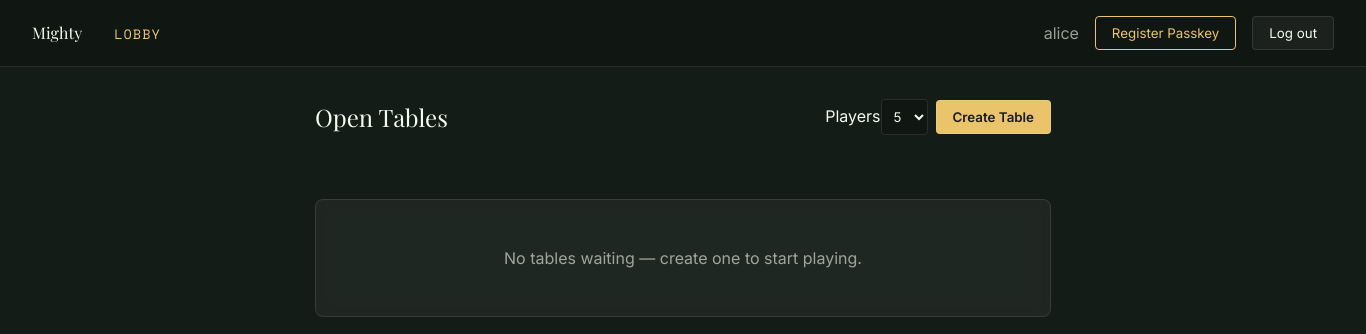
it: LobbyScreen › registers passkey when button is clicked
Click the button "Register Passkey": (1166, 33) [1095,16,1236,50]
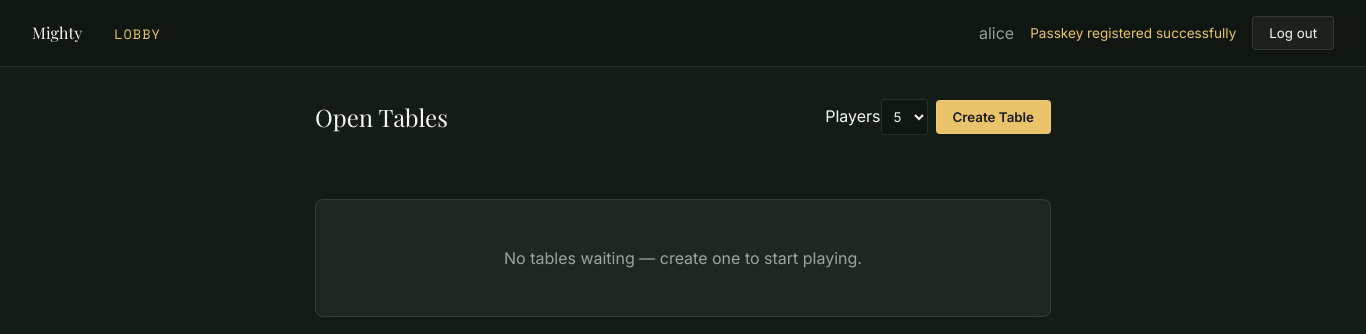
Result: the text "Passkey registered successfully" is shown at [1030,25,1236,41]
